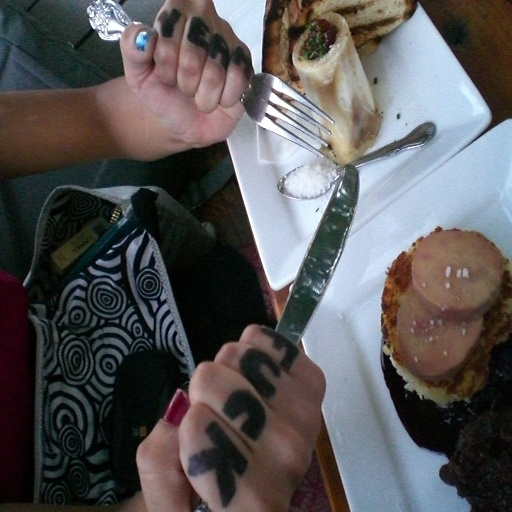hand: (38, 5, 271, 168), (135, 321, 327, 511)
